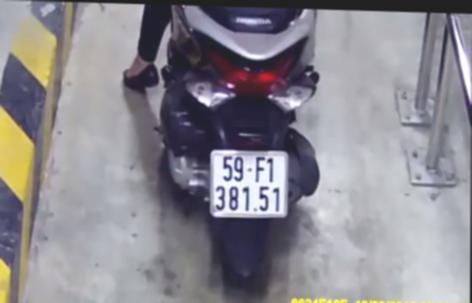License_Plate: (204, 145, 296, 223)
